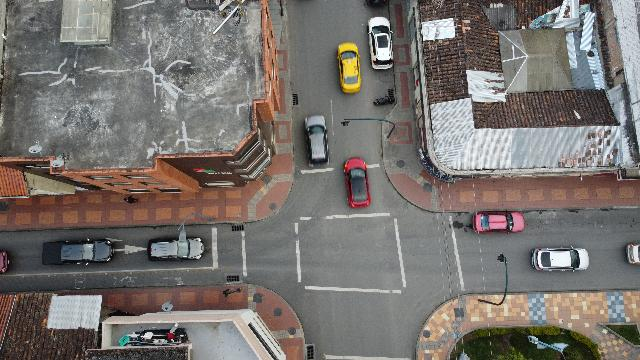Vehiculo: (42, 239, 114, 265), (532, 246, 588, 272), (367, 16, 393, 70), (344, 158, 371, 208), (148, 238, 205, 261), (337, 42, 361, 93), (304, 115, 328, 165), (472, 211, 524, 233), (626, 244, 640, 264), (0, 251, 9, 274)
